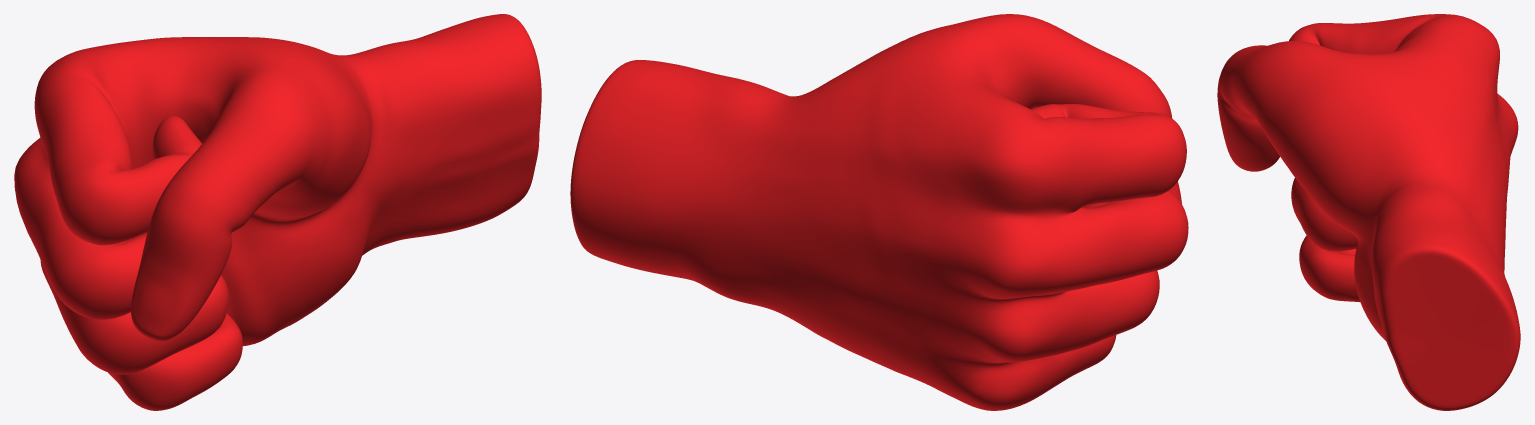
The model's file is hand.fbx.
3 views of the same model, side by side, from view 1: azimuth 30°, elevation 25°; view 2: azimuth 150°, elevation 25°; view 3: azimuth 270°, elevation 25° (orthographic). The views are drawn at different scales.
Parts seen in each view (by area): view 1: node_id31; view 2: node_id31; view 3: node_id31.
Boxes of the visible parts, bbox=[...] form: node_id31: bbox=[14, 14, 541, 410]; node_id31: bbox=[570, 14, 1188, 410]; node_id31: bbox=[1217, 14, 1520, 410].
Size of the model in its own units: 0.6783 by 0.4123 by 0.3851.
1 material, 1 textured.
